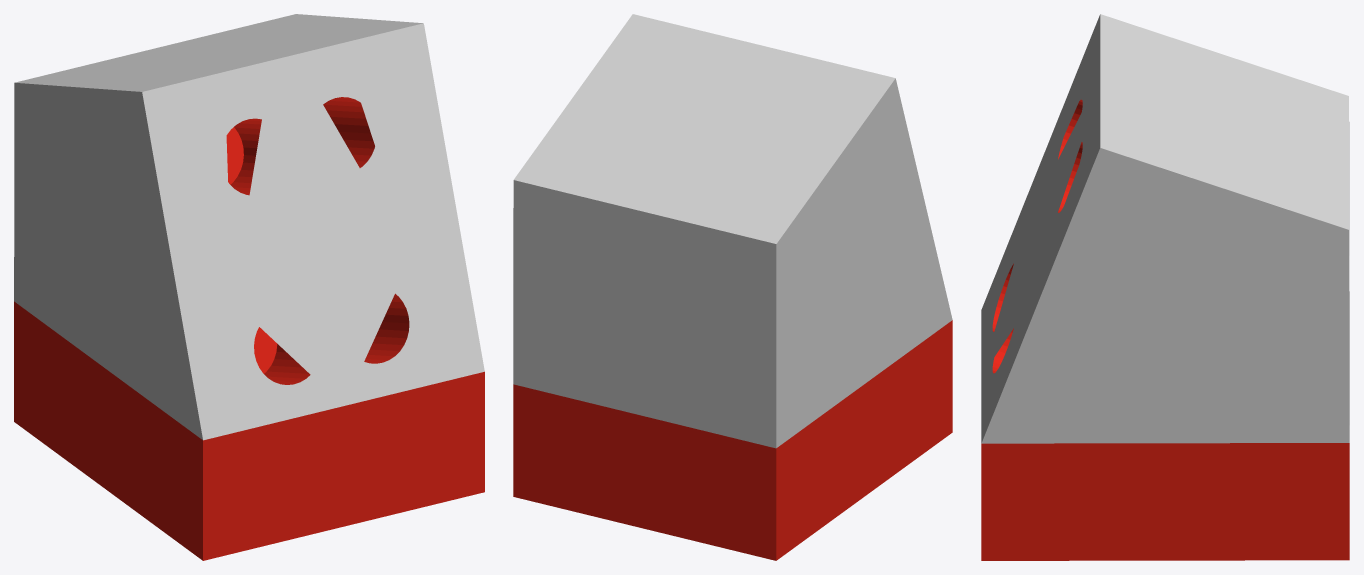
File: baskettoss.fbx
3 views of the same model, side by side, from view 1: azimuth 30°, elevation 25°; view 2: azimuth 150°, elevation 25°; view 3: azimuth 270°, elevation 25° (orthographic). The views are drawn at different scales.
Visible parts, largest first — view 1: basketToss; view 2: basketToss; view 3: basketToss.
Boxes of the visible parts, x1=… form: basketToss: x1=14, y1=14, x2=484, y2=560; basketToss: x1=513, y1=14, x2=952, y2=560; basketToss: x1=981, y1=14, x2=1349, y2=560.
Size of the model in its own units: 114 by 165 by 133.
